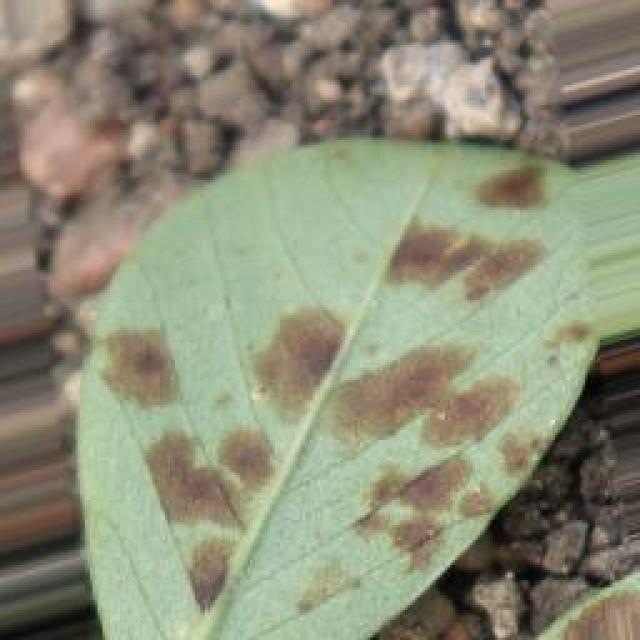Whitefly: (47, 114, 603, 640)
